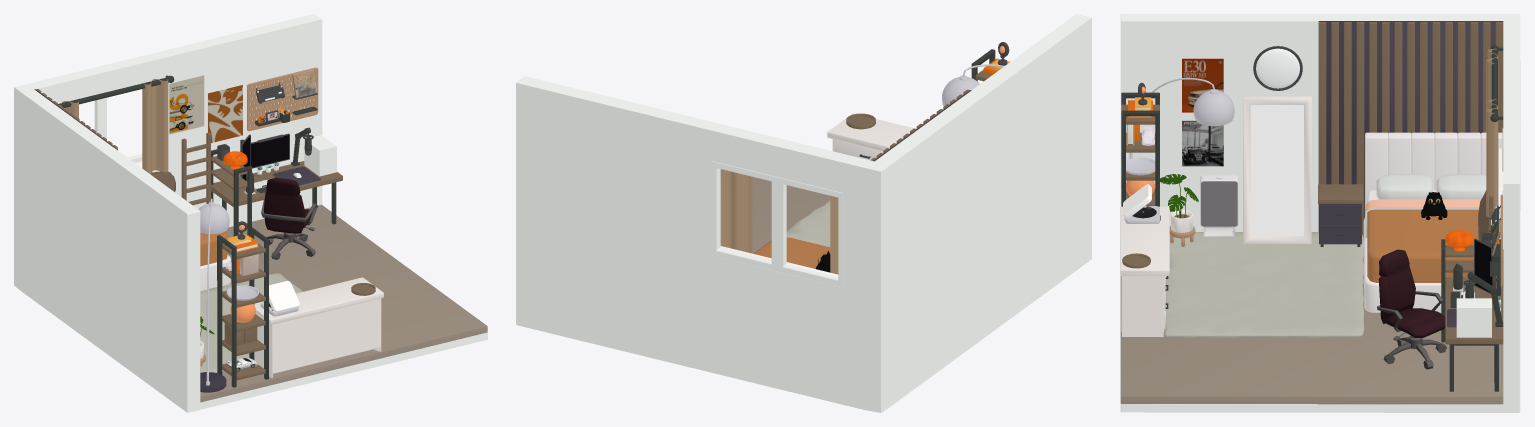
File: room_opt.glb
The picture shows the model from 3 angles, left to right: view 1: azimuth 30°, elevation 25°; view 2: azimuth 150°, elevation 25°; view 3: azimuth 270°, elevation 25°; orthographic projection. The views are drawn at different scales.
Visible parts, largest first — view 1: rug_main, th_chair, curtains, poster_porsche_2, poster_kaytranada, mouse, bed_blanket, th_vinylcovr; view 2: rug_main, curtains, bed_blanket; view 3: rug_main, mouse, bed_blanket, th_chair, poster_porsche, curtains, poster_bmw, th_mushroom_lamp.
Boxes of the visible parts, left/top/right/bottom form: rug_main: left=14, top=14, right=487, bottom=412; th_chair: left=261, top=178, right=317, bottom=259; curtains: left=61, top=78, right=168, bottom=174; poster_porsche_2: left=169, top=75, right=204, bottom=134; poster_kaytranada: left=208, top=85, right=242, bottom=142; mouse: left=34, top=89, right=320, bottom=185; bed_blanket: left=200, top=231, right=227, bottom=266; th_vinylcovr: left=292, top=69, right=316, bottom=98; rug_main: left=516, top=14, right=1091, bottom=412; curtains: left=722, top=169, right=838, bottom=274; bed_blanket: left=753, top=237, right=830, bottom=268; rug_main: left=1120, top=14, right=1520, bottom=412; mouse: left=1318, top=21, right=1503, bottom=327; bed_blanket: left=1365, top=174, right=1500, bottom=282; th_chair: left=1377, top=249, right=1446, bottom=369; poster_porsche: left=1182, top=120, right=1223, bottom=166; curtains: left=1486, top=48, right=1498, bottom=217; poster_bmw: left=1182, top=59, right=1223, bottom=112; th_mushroom_lamp: left=1445, top=230, right=1473, bottom=251.
Size of the model in its own units: 4.66 by 2.96 by 4.66.
23 materials, 23 textured.
